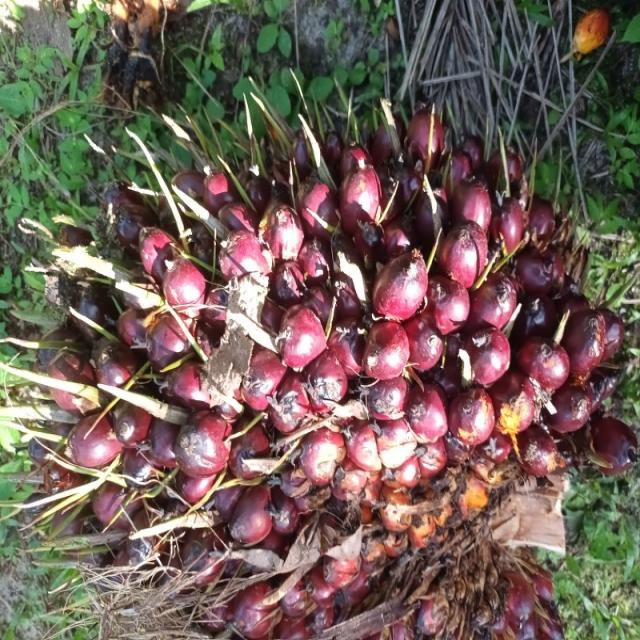fraksi 1: (40, 0, 480, 640)
